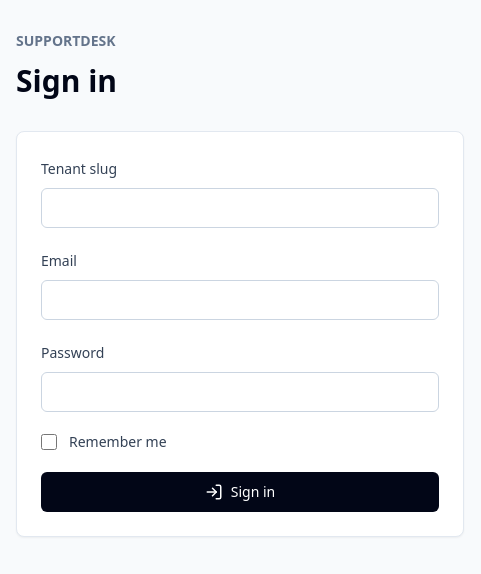
Test: authentication pages › submits login through the same-origin BFF without exposing token storage
Type "acme" into the field labelled "Tenant slug" at x=240, y=208, box [41,188,439,228]
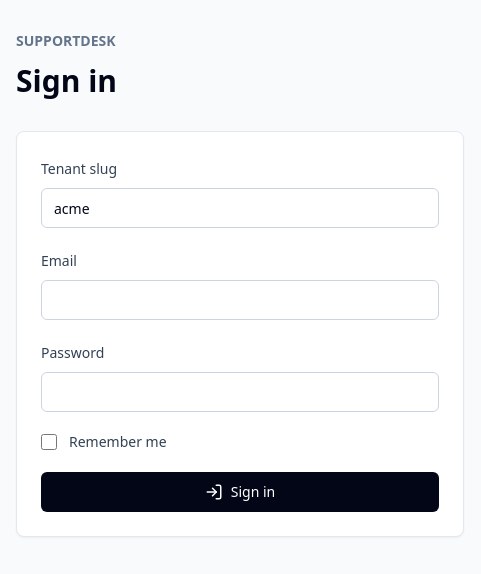
Type "agent@acme.test" into the field labelled "Email" at x=240, y=300, box [41,280,439,320]
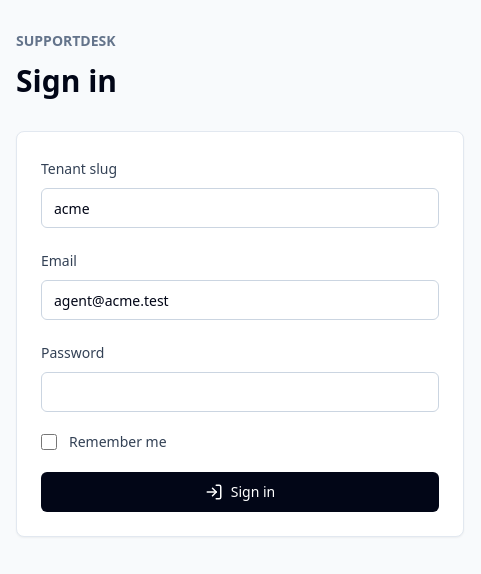
Type "CorrectHorse9!Battery" into the password field labelled "Password" at x=240, y=392, box [41,372,439,412]
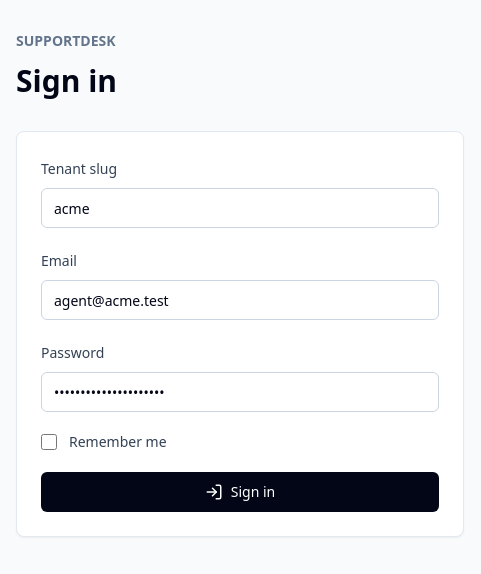
Click the button "Sign in" at x=240, y=492, box [41,472,439,512]
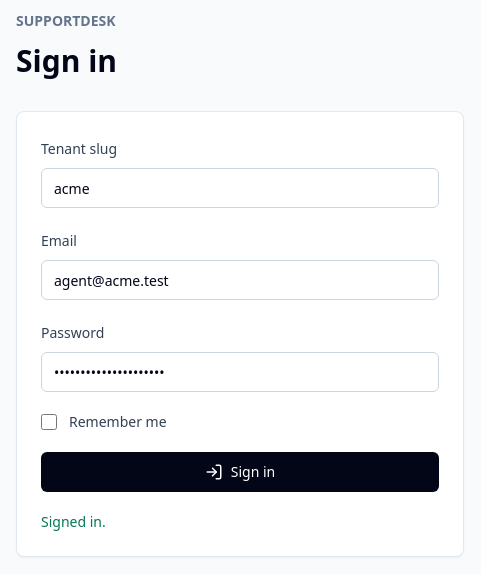
Check: the text "Signed in." is shown, box [41,512,106,531]
